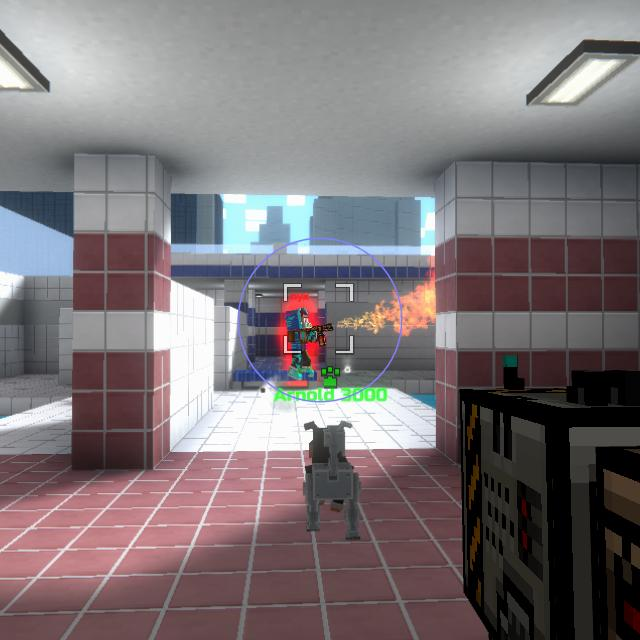Enemy: (284, 307, 317, 380)
